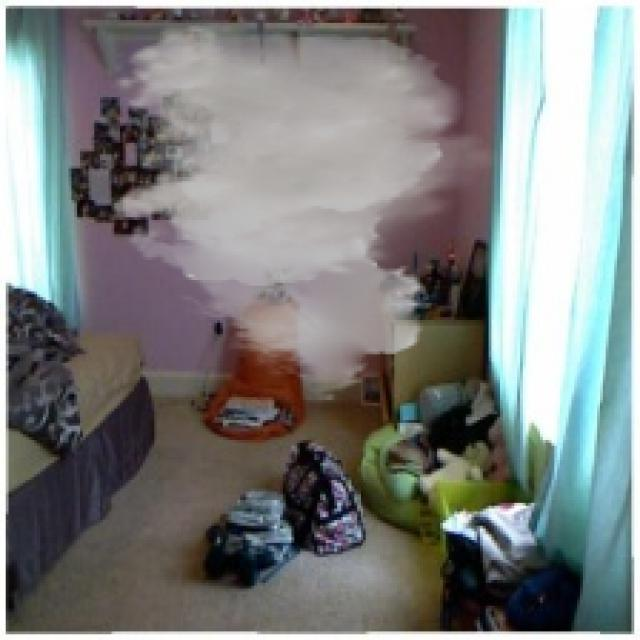Smoke: (109, 23, 508, 403)
